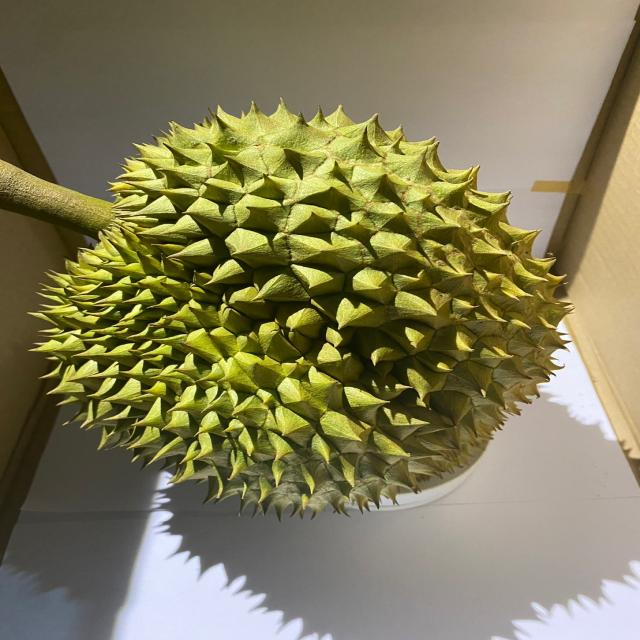immature: (28, 93, 580, 522)
